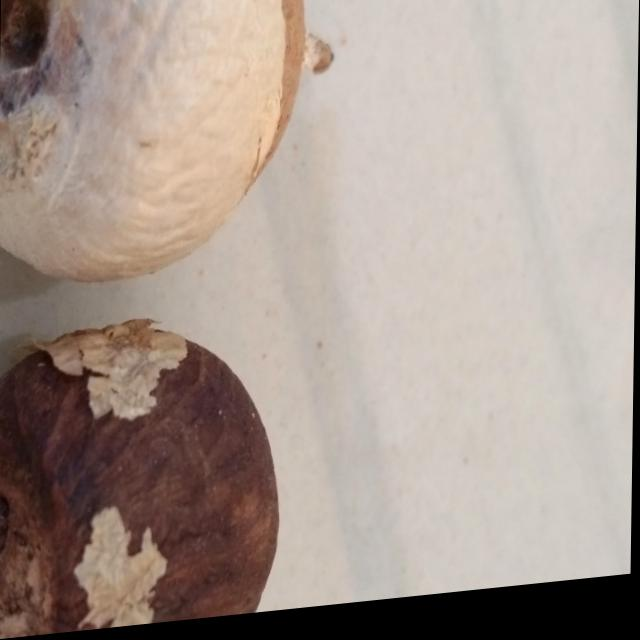karigot: (0, 330, 292, 640)
phatora: (0, 0, 330, 289)
